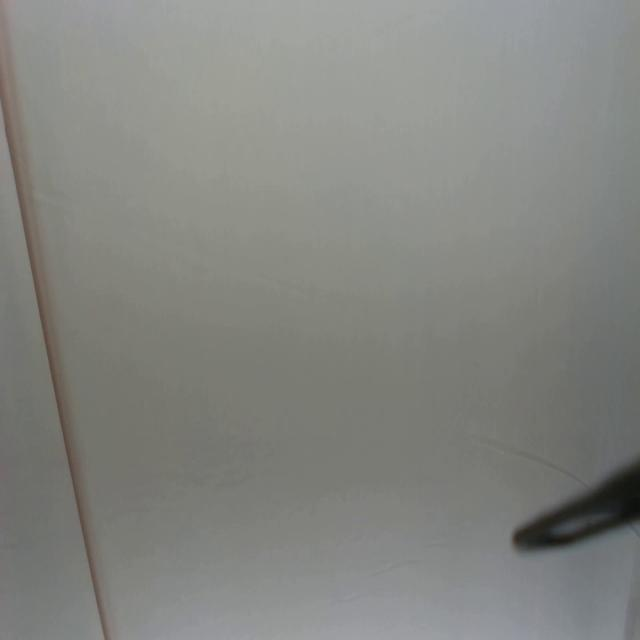crease: (0, 73, 110, 640), (475, 436, 589, 492)
